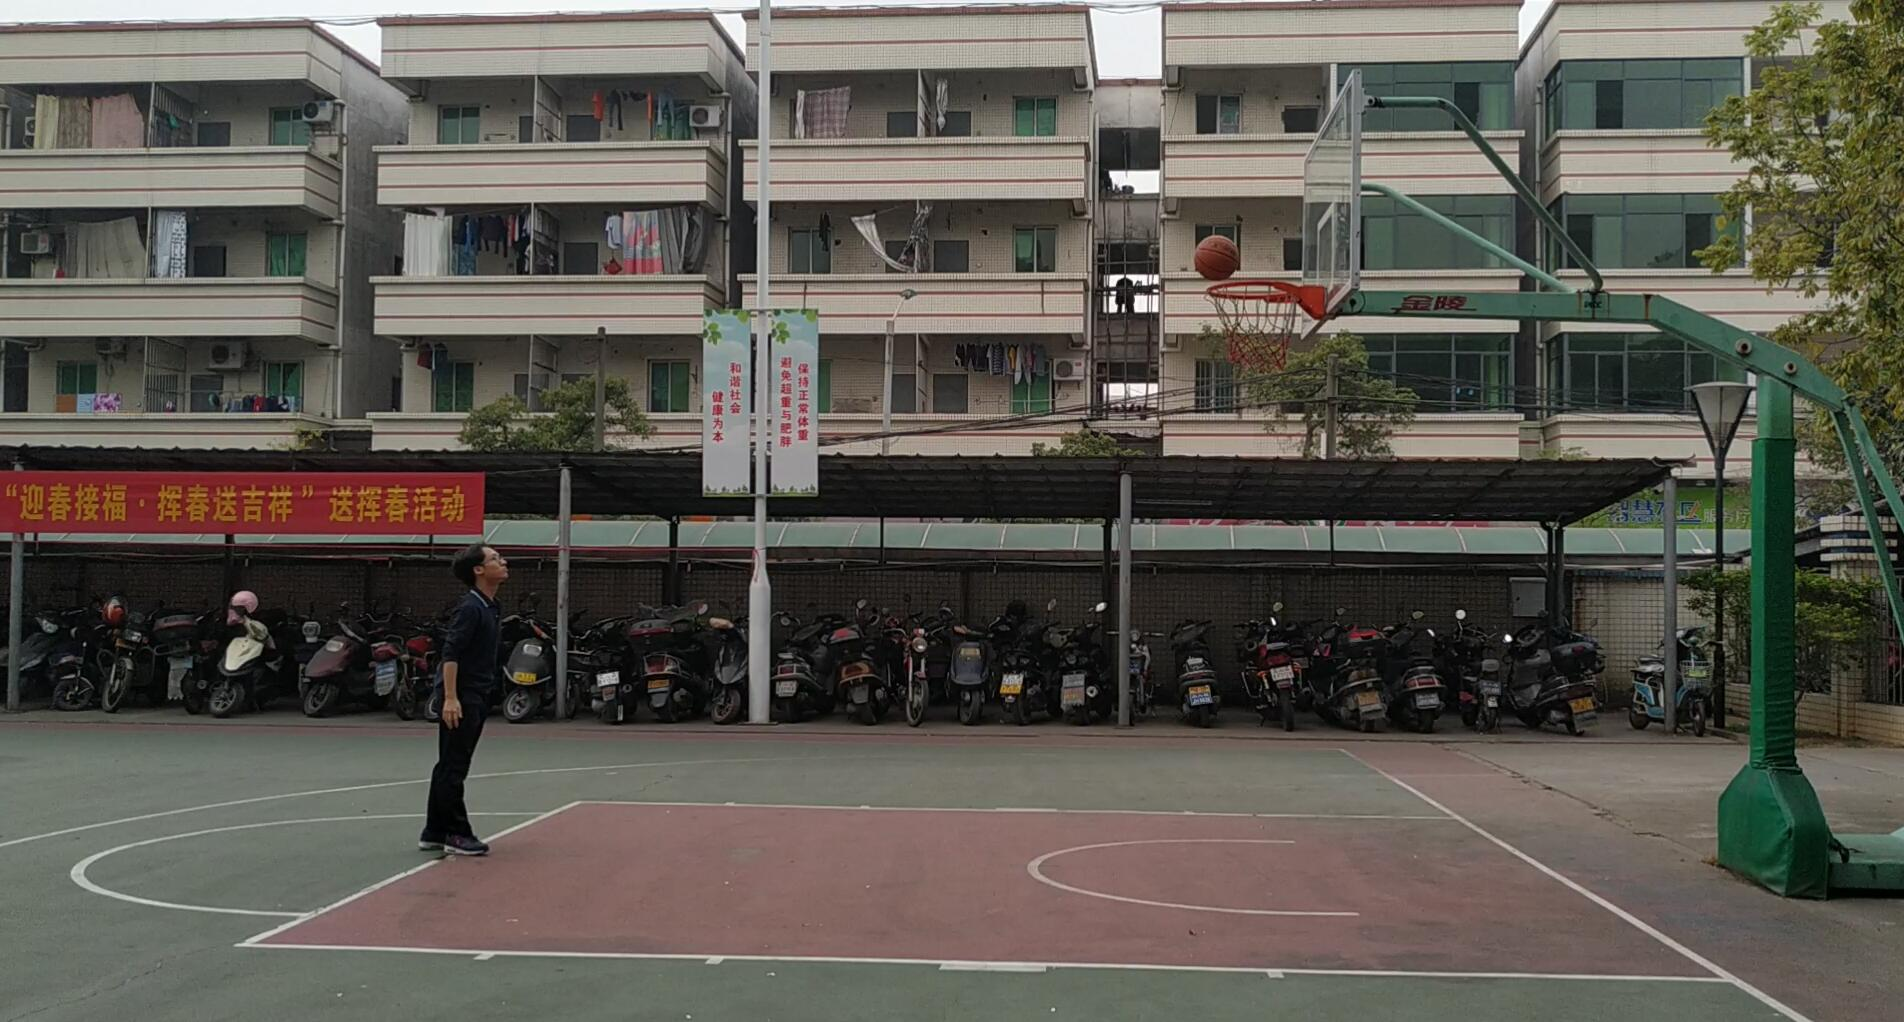basketball: (1189, 235, 1245, 286)
